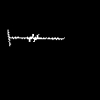treble_crochet: (8, 32, 61, 41)
